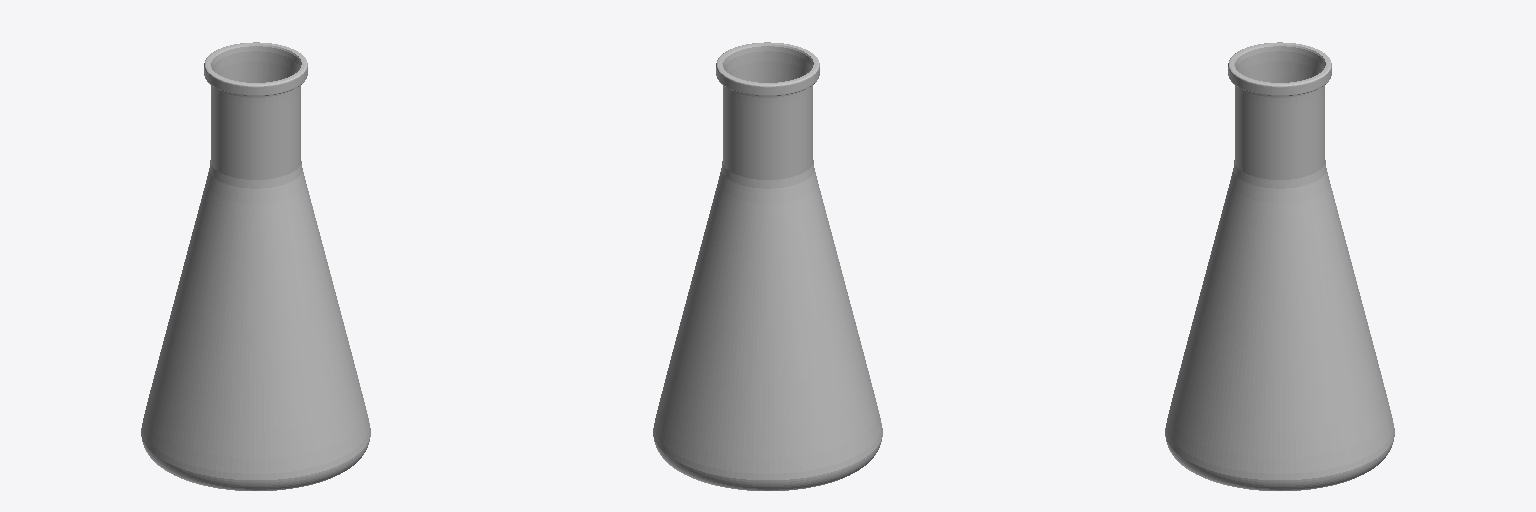
The model's file is volumetric flask.obj.
3 renders of one model, left to right at view 1: azimuth 30°, elevation 25°; view 2: azimuth 150°, elevation 25°; view 3: azimuth 270°, elevation 25°, orthographic.
Visible parts, largest first — view 1: Cylinder.002_Cylinder.013; view 2: Cylinder.002_Cylinder.013; view 3: Cylinder.002_Cylinder.013.
Boxes of the visible parts, <box> form: Cylinder.002_Cylinder.013: <box>141,42,370,490</box>; Cylinder.002_Cylinder.013: <box>653,42,882,490</box>; Cylinder.002_Cylinder.013: <box>1165,42,1394,490</box>.
Size of the model in its own units: 1.66 by 3.07 by 1.66.